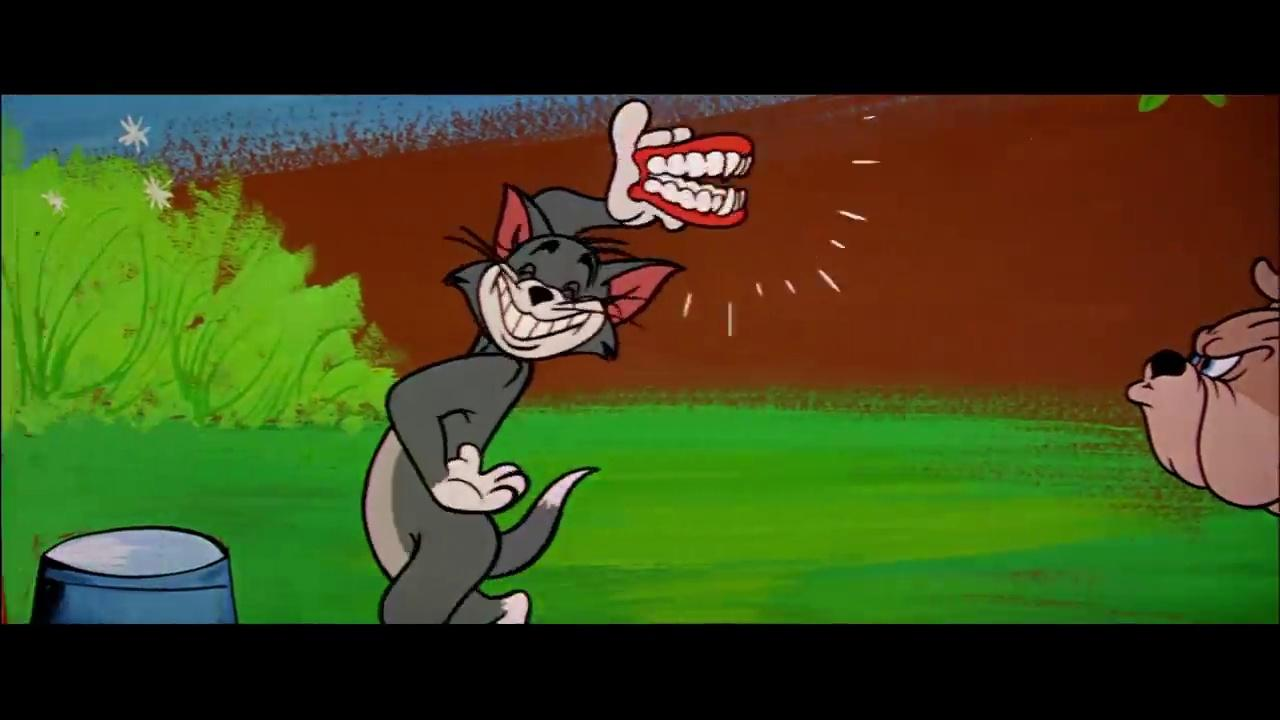Tom: (350, 99, 695, 625)
